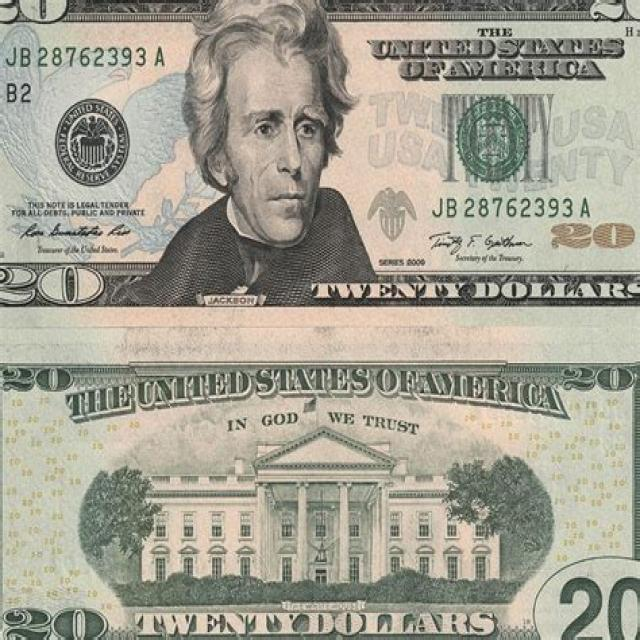Twenty: (0, 0, 640, 325), (0, 325, 638, 640)
